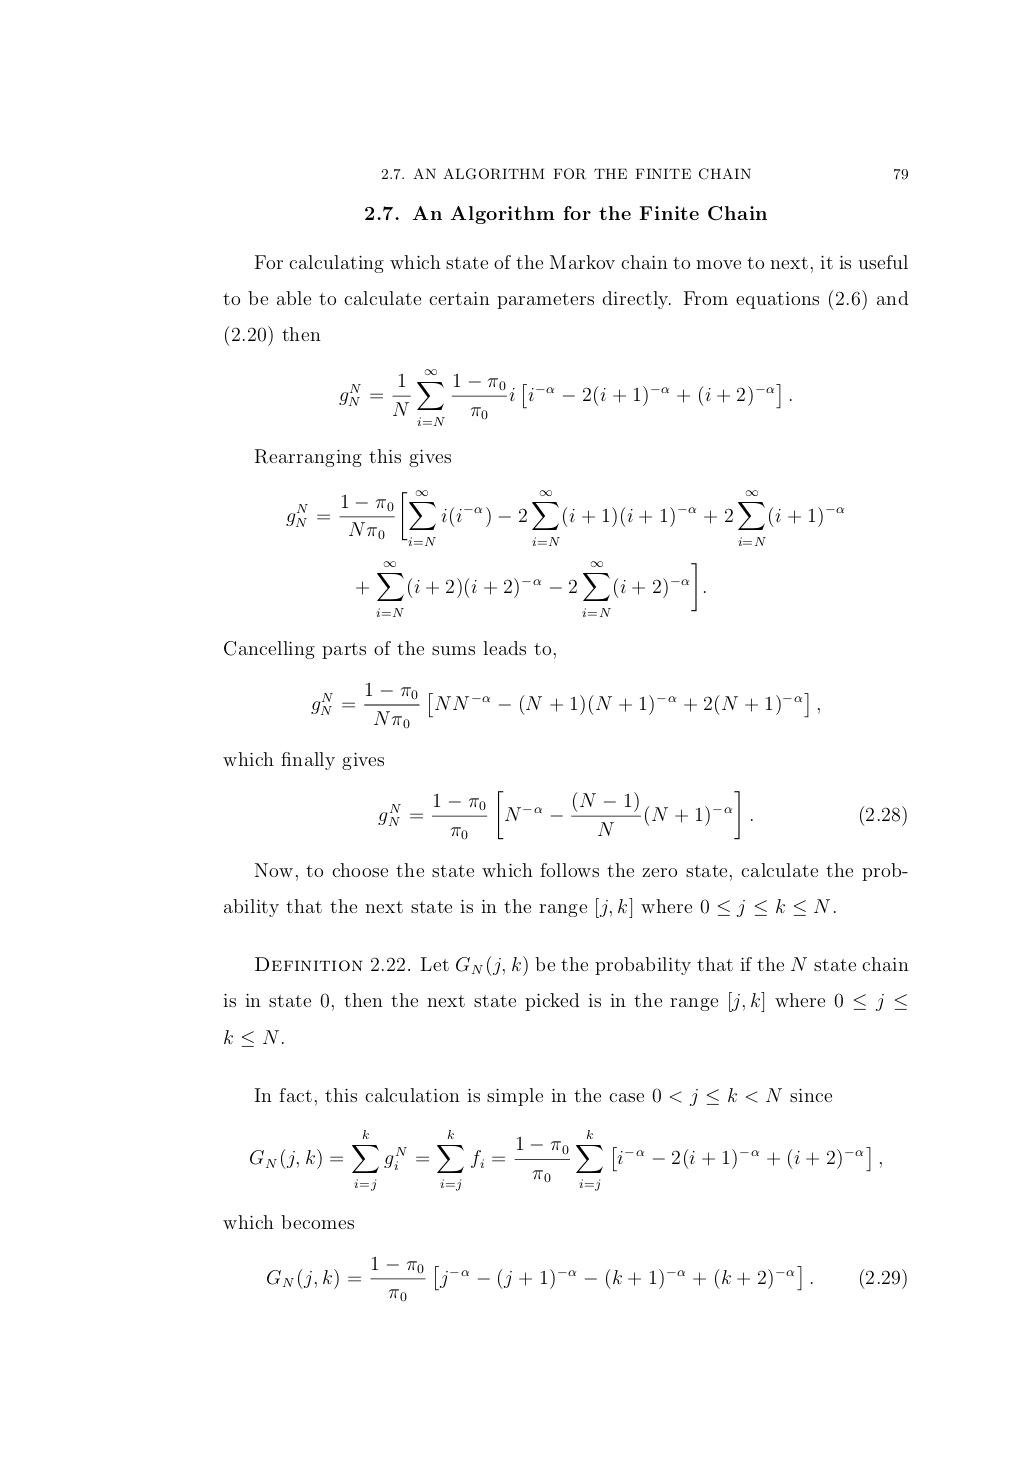formula: (250, 1128, 881, 1191), (286, 487, 844, 545), (267, 1255, 906, 1302), (378, 790, 906, 840), (339, 368, 791, 426), (311, 682, 819, 729), (356, 560, 705, 617), (224, 1028, 283, 1047)
